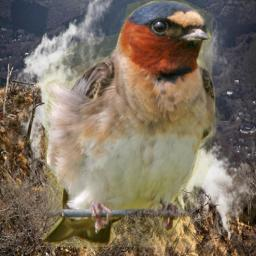Swallow: (40, 0, 221, 247)
